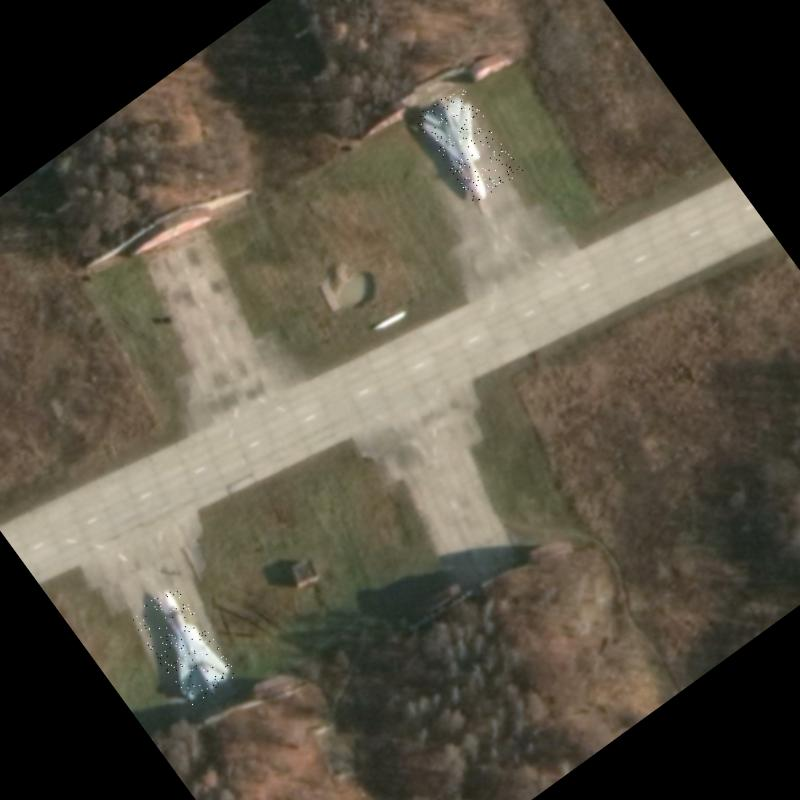A20: (125, 582, 240, 708), (412, 82, 523, 204)
